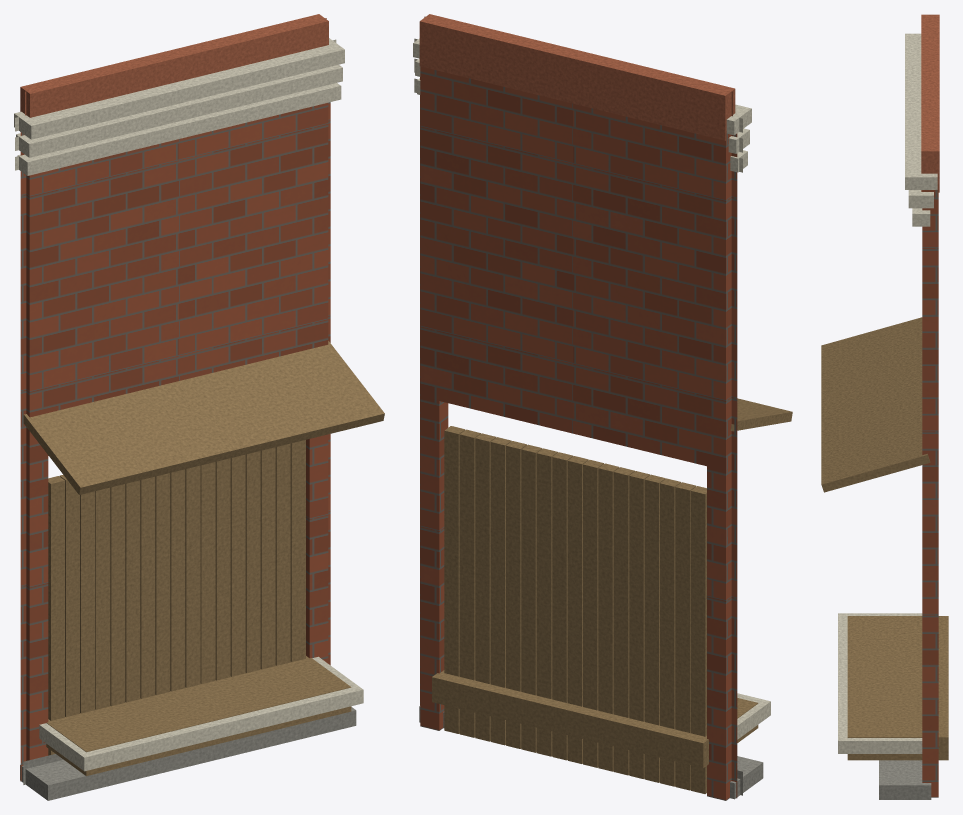
File: WHSE23_lod2.glb
The picture shows the model from 3 angles, left to right: view 1: azimuth 30°, elevation 25°; view 2: azimuth 150°, elevation 25°; view 3: azimuth 270°, elevation 25°; orthographic projection. The views are drawn at different scales.
Parts seen in each view (by area): view 1: WHSE23_FRONT_LOD2; view 2: WHSE23_FRONT_LOD2; view 3: WHSE23_FRONT_LOD2.
Part boxes in pixels (left/top/right/bottom): WHSE23_FRONT_LOD2: left=14, top=14, right=384, bottom=800; WHSE23_FRONT_LOD2: left=413, top=14, right=792, bottom=800; WHSE23_FRONT_LOD2: left=821, top=14, right=948, bottom=799.
Size of the model in its own units: 3.44 by 7.05 by 1.26.
6 materials, 6 textured.
